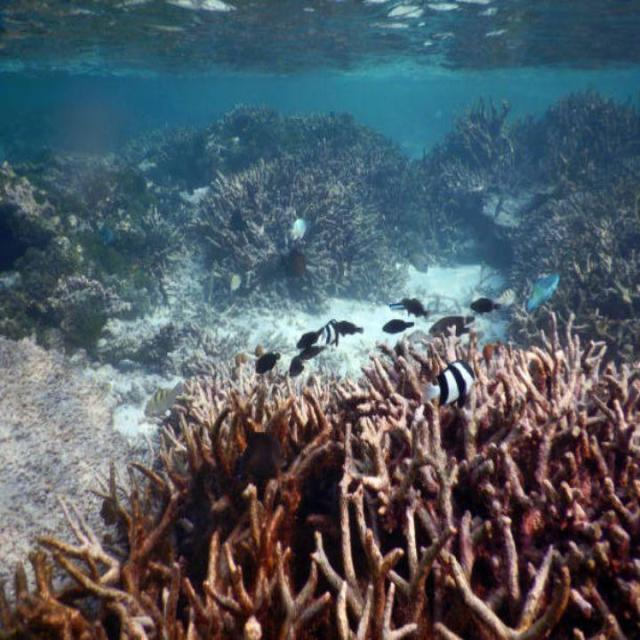Dead Coral: (360, 312, 640, 640), (205, 153, 405, 307)
